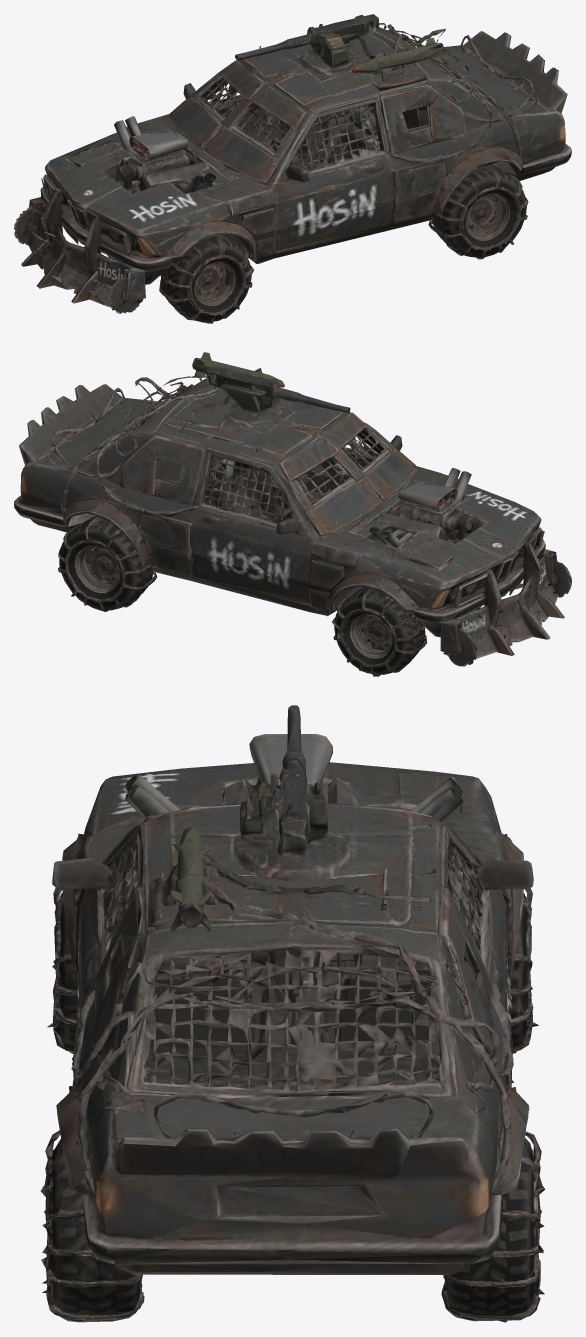
Rendered from ghost.glb.
The picture shows the model from 3 angles, top to bottom: view 1: azimuth 30°, elevation 25°; view 2: azimuth 150°, elevation 25°; view 3: azimuth 270°, elevation 25°; orthographic projection. The views are drawn at different scales.
Visible parts, largest first — view 1: Mesh_0; view 2: Mesh_0; view 3: Mesh_0.
Part boxes in pixels (left/top/right/bottom): Mesh_0: left=14, top=14, right=571, bottom=323; Mesh_0: left=14, top=352, right=571, bottom=676; Mesh_0: left=40, top=705, right=544, bottom=1322.
Bounding box in the file's own units: 1.9 × 0.8017 × 0.8362.
1 material, 1 textured.
